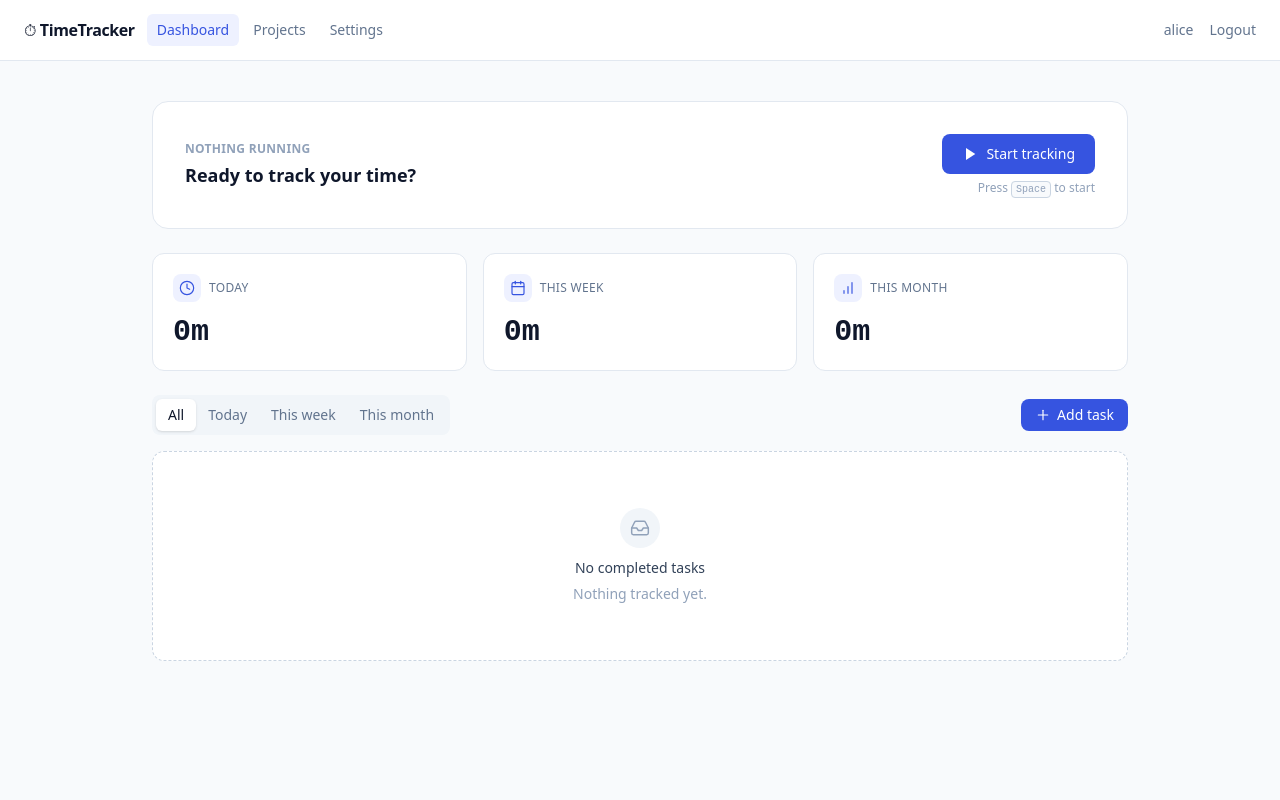
Scenario: DashboardPage › shows start form when start button is clicked
Click the button with test id "start-task-button" at (1019, 154), box [942, 134, 1095, 174]
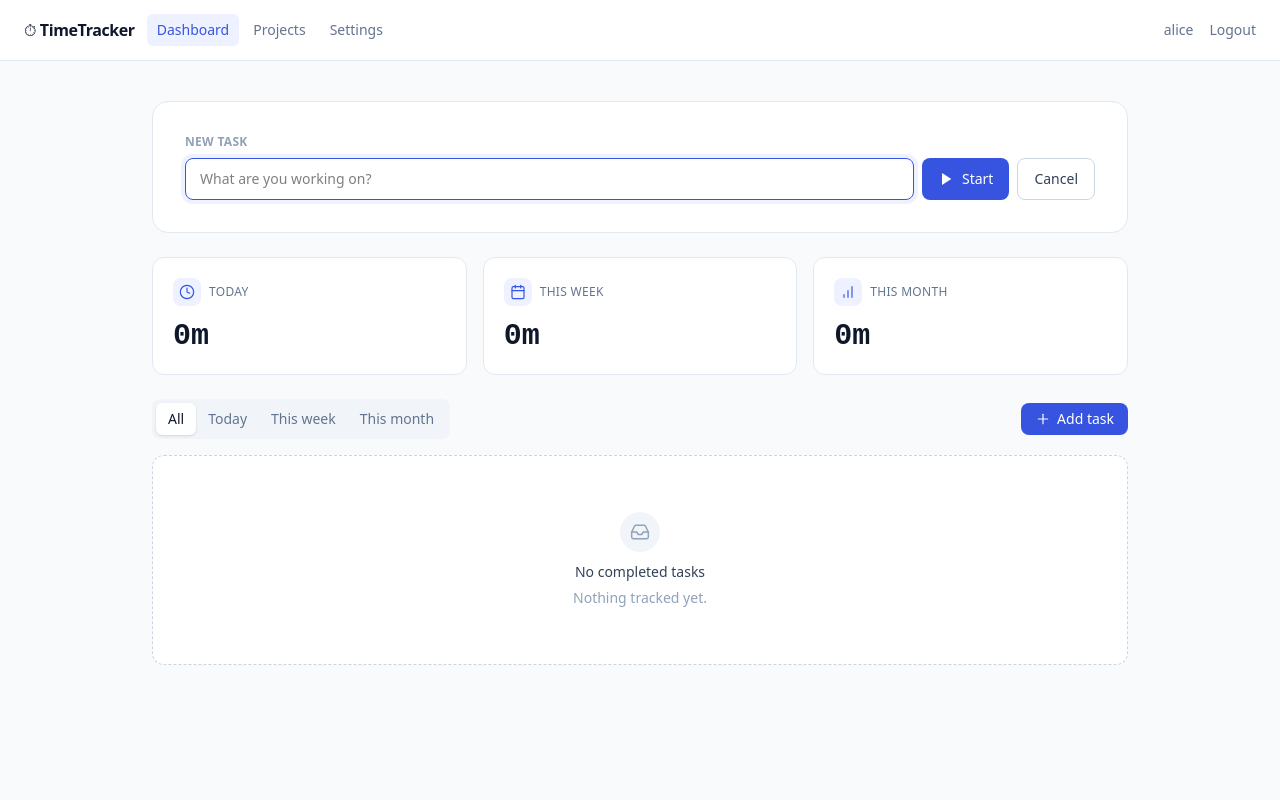
Now the form with test id "start-form" is shown, box [185, 134, 1095, 200]
Now the field with test id "start-description" is shown, box [185, 158, 914, 200]
